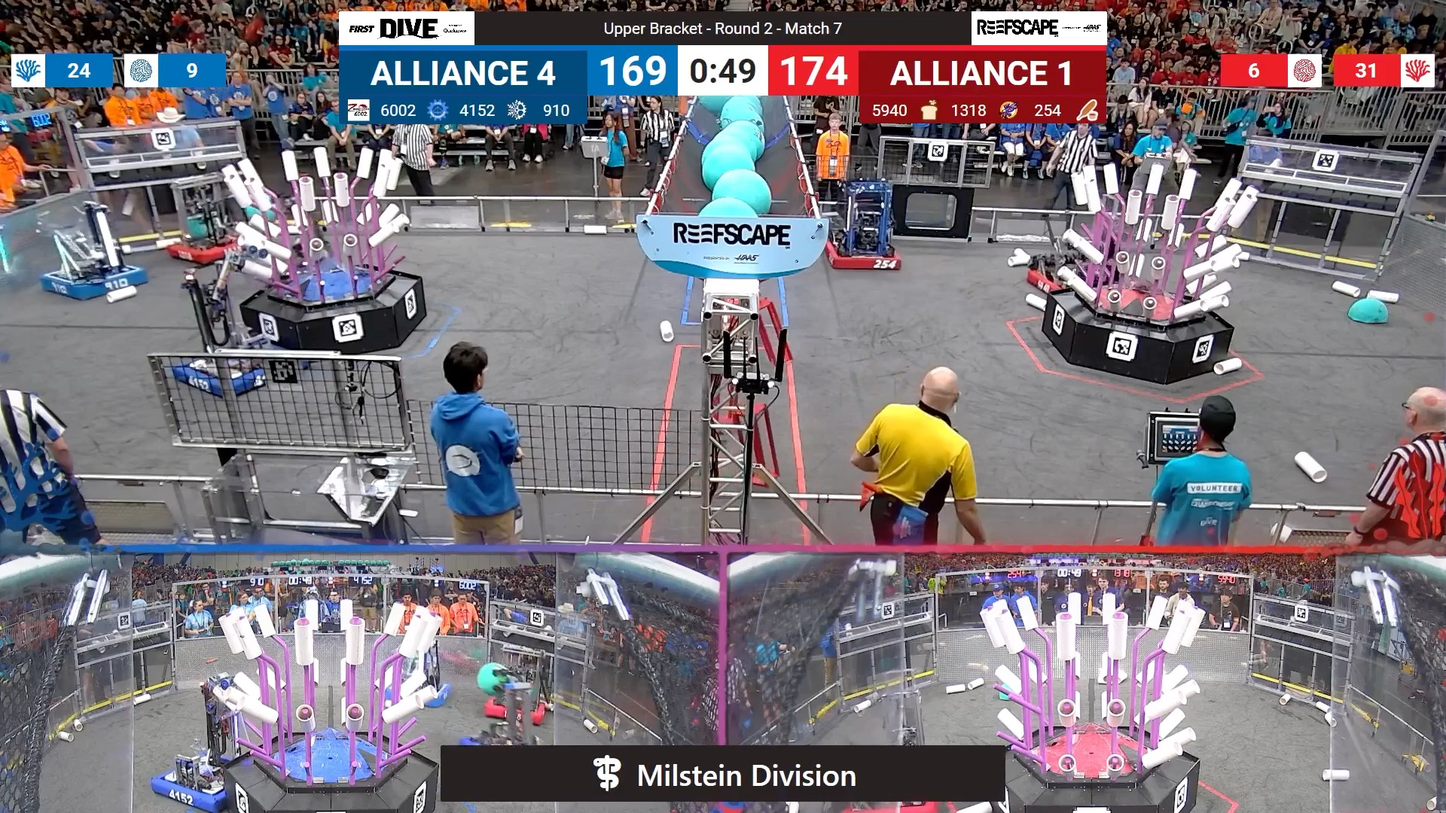bumpers: (165, 348, 286, 399), (147, 757, 248, 813), (32, 261, 155, 305), (818, 233, 910, 277), (157, 236, 247, 269), (1022, 257, 1073, 298), (481, 696, 552, 725)
